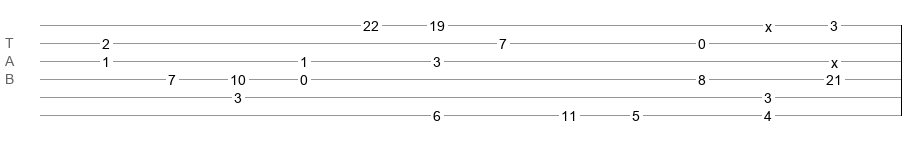0: (300, 72, 308, 82), (698, 36, 706, 46)
1: (102, 54, 110, 64), (300, 54, 308, 64)
10: (230, 72, 246, 82)
11: (561, 108, 577, 118)
19: (429, 18, 445, 28)
2: (102, 36, 110, 46)
21: (826, 72, 842, 82)
22: (363, 18, 379, 28)
3: (234, 90, 242, 100), (433, 54, 441, 64), (764, 90, 772, 100), (830, 18, 838, 28)
4: (764, 108, 772, 118)
5: (632, 108, 640, 118)
6: (433, 108, 441, 118)
7: (168, 72, 176, 82), (499, 36, 507, 46)
8: (698, 72, 706, 82)
x: (765, 19, 772, 27), (831, 55, 838, 63)
